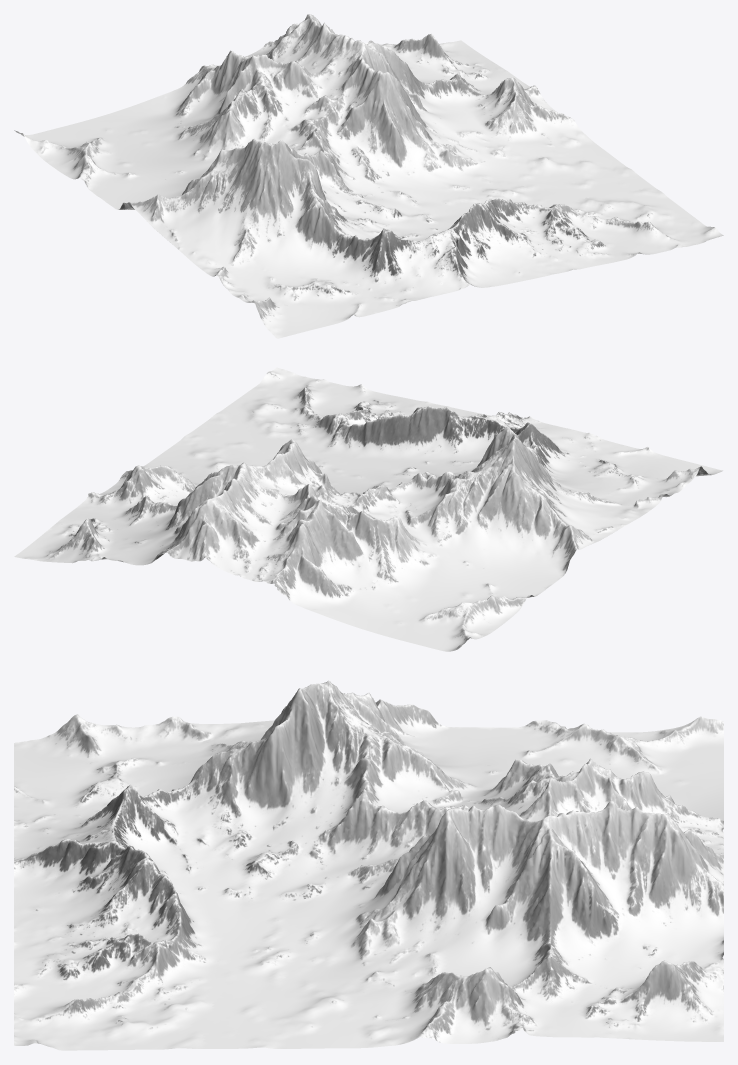
File: hill-compressed.glb
The picture shows the model from 3 angles, top to bottom: view 1: azimuth 30°, elevation 25°; view 2: azimuth 150°, elevation 25°; view 3: azimuth 270°, elevation 25°; orthographic projection. The views are drawn at different scales.
Parts seen in each view (by area): view 1: Object_4; view 2: Object_4; view 3: Object_4.
Boxes of the visible parts, x1,y1,x2,y2 form: Object_4: (14, 14, 723, 338); Object_4: (14, 367, 722, 651); Object_4: (14, 680, 723, 1050).
Size of the model in its own units: 17.5 by 3.88 by 17.81.
1 material, 1 textured.
